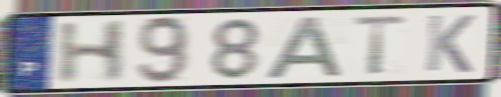8: (207, 16, 266, 82)
9: (134, 14, 192, 87)
A: (262, 14, 348, 81)
H: (54, 18, 132, 86)
K: (422, 13, 478, 75)
T: (350, 13, 412, 78)
